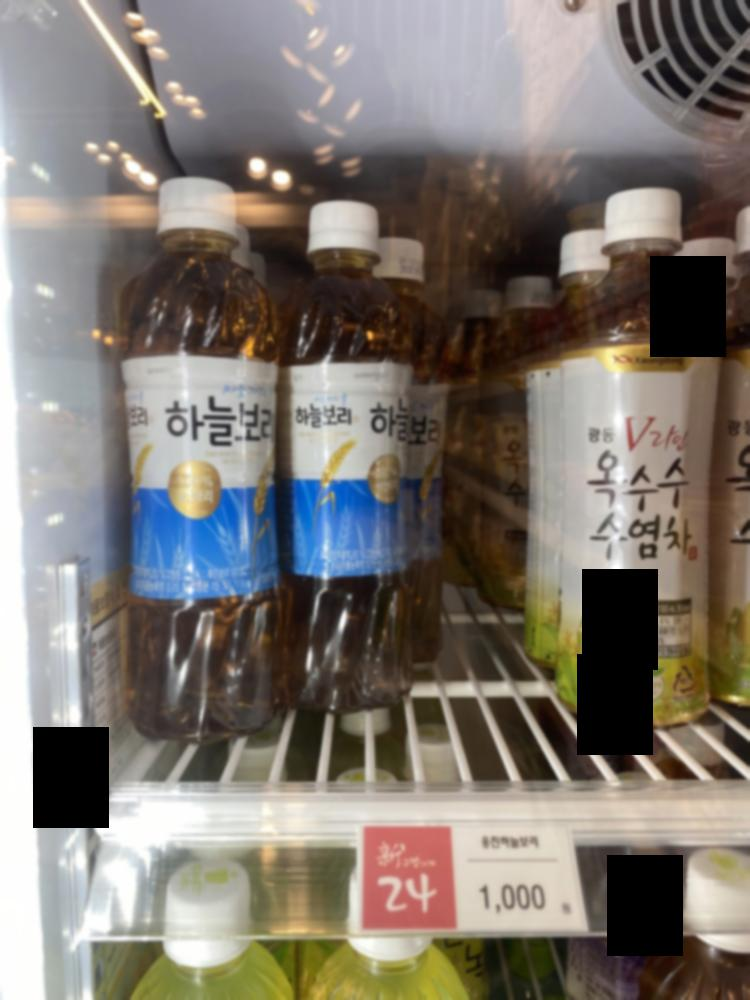haneulbori: (73, 163, 288, 757)
